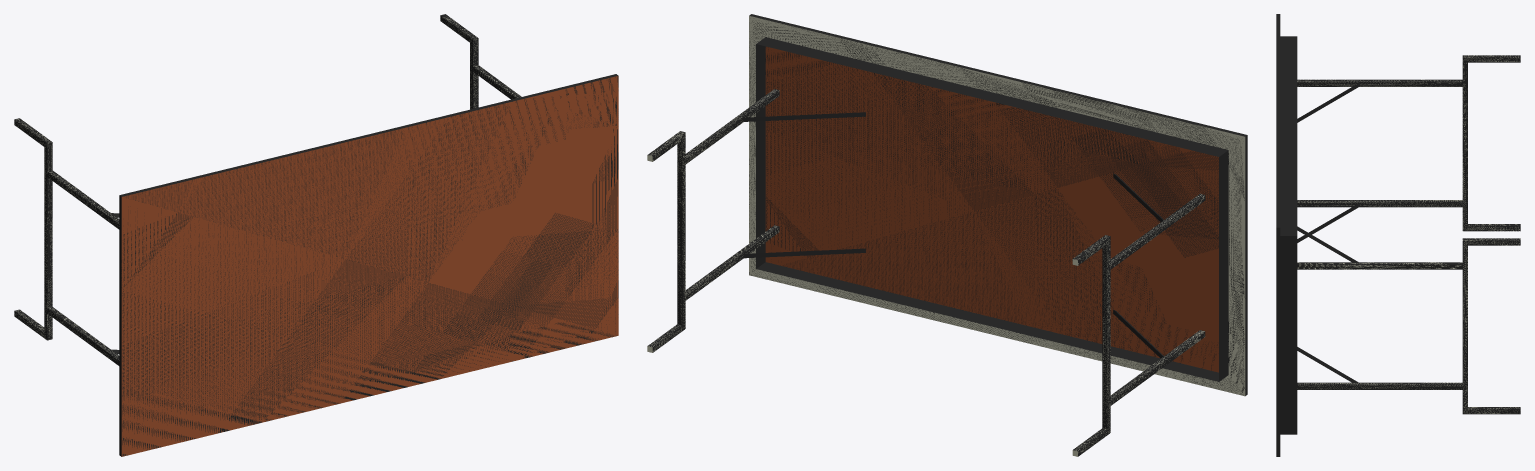
3 renders of one model, left to right at view 1: azimuth 30°, elevation 25°; view 2: azimuth 150°, elevation 25°; view 3: azimuth 270°, elevation 25°, orthographic. The views are drawn at different scales.
Visible parts, largest first — view 1: folding table x; view 2: folding table x; view 3: folding table x.
Part boxes in pixels (left/top/right/bottom): folding table x: left=14, top=14, right=618, bottom=456; folding table x: left=647, top=14, right=1247, bottom=456; folding table x: left=1276, top=14, right=1520, bottom=456.
Bounding box in the file's own units: 60 × 30 × 29.
